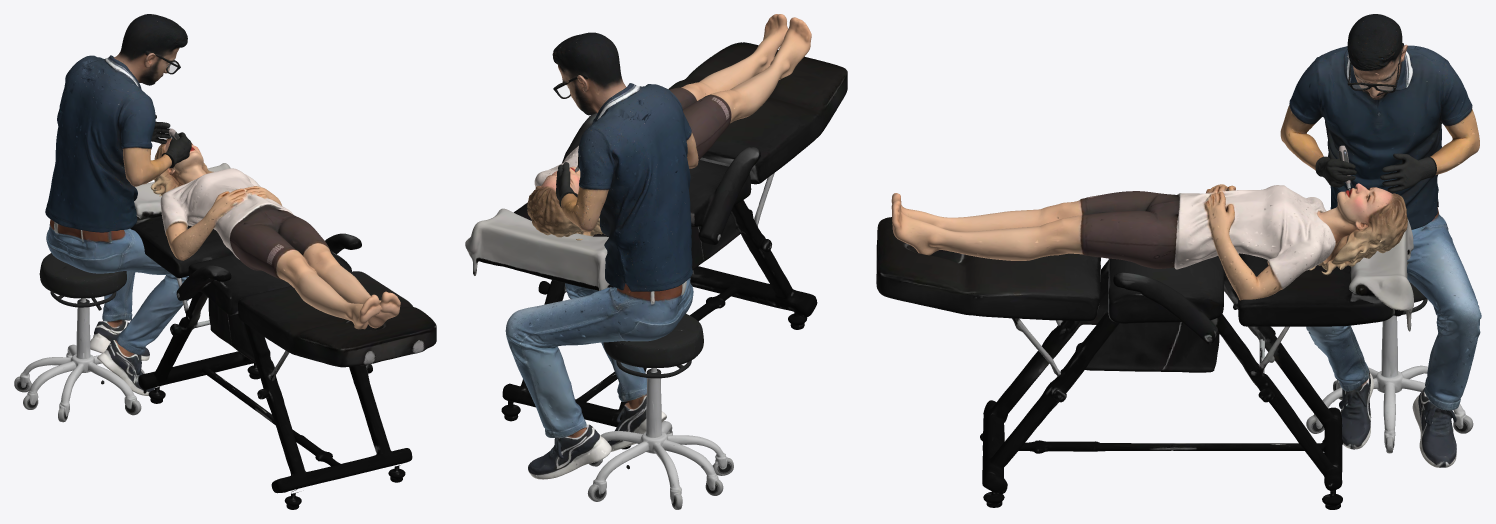
3 views of the same model, side by side, from view 1: azimuth 30°, elevation 25°; view 2: azimuth 150°, elevation 25°; view 3: azimuth 270°, elevation 25° (orthographic). The views are drawn at different scales.
Visible parts, largest first — view 1: tripo_node_19dd656c-79e0-47a4-90a7-01b25bed6aef, geometry_0, geometry_0004, geometry_0002, geometry_0005, Mesh_0005, geometry_0001, geometry_0008; view 2: tripo_node_19dd656c-79e0-47a4-90a7-01b25bed6aef, geometry_0004, geometry_0002, geometry_0005, geometry_0, Mesh_0005, geometry_0001, geometry_0007; view 3: tripo_node_19dd656c-79e0-47a4-90a7-01b25bed6aef, geometry_0, geometry_0004, geometry_0002, geometry_0001, Mesh_0005, geometry_0005, geometry_0007, geometry_0008.
Part boxes in pixels (x1,y1,x2,y2): tripo_node_19dd656c-79e0-47a4-90a7-01b25bed6aef: (130,163,436,509); geometry_0: (160,168,400,329); geometry_0004: (45,55,171,232); geometry_0002: (46,219,189,395); geometry_0005: (14,253,144,422); Mesh_0005: (114,14,187,85); geometry_0001: (150,138,213,196); geometry_0008: (162,132,191,167); tripo_node_19dd656c-79e0-47a4-90a7-01b25bed6aef: (465,42,847,449); geometry_0004: (561,83,698,291); geometry_0002: (505,278,693,479); geometry_0005: (587,314,733,509); geometry_0: (534,14,811,186); Mesh_0005: (552,32,626,115); geometry_0001: (527,166,604,240); geometry_0007: (556,162,577,207); tripo_node_19dd656c-79e0-47a4-90a7-01b25bed6aef: (876,217,1413,509); geometry_0: (891,184,1335,300); geometry_0004: (1280,45,1479,229); geometry_0002: (1306,207,1481,467); geometry_0001: (1309,183,1407,274); Mesh_0005: (1347,14,1407,99); geometry_0005: (1306,281,1473,453); geometry_0007: (1380,153,1436,192); geometry_0008: (1315,156,1356,187).
Bounding box in the file's own units: 0.5559 × 0.8664 × 1.08.
11 materials, 10 textured.
